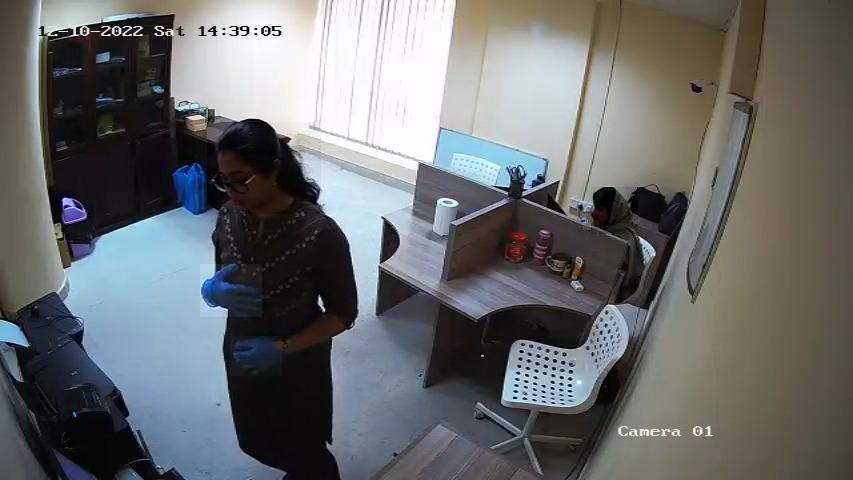apron: (200, 265, 262, 318), (231, 337, 283, 377)
no_apron: (584, 214, 608, 230)
no_gloves: (208, 123, 321, 215), (591, 188, 638, 234)
no_hairnet: (213, 168, 276, 216), (586, 203, 612, 227)
